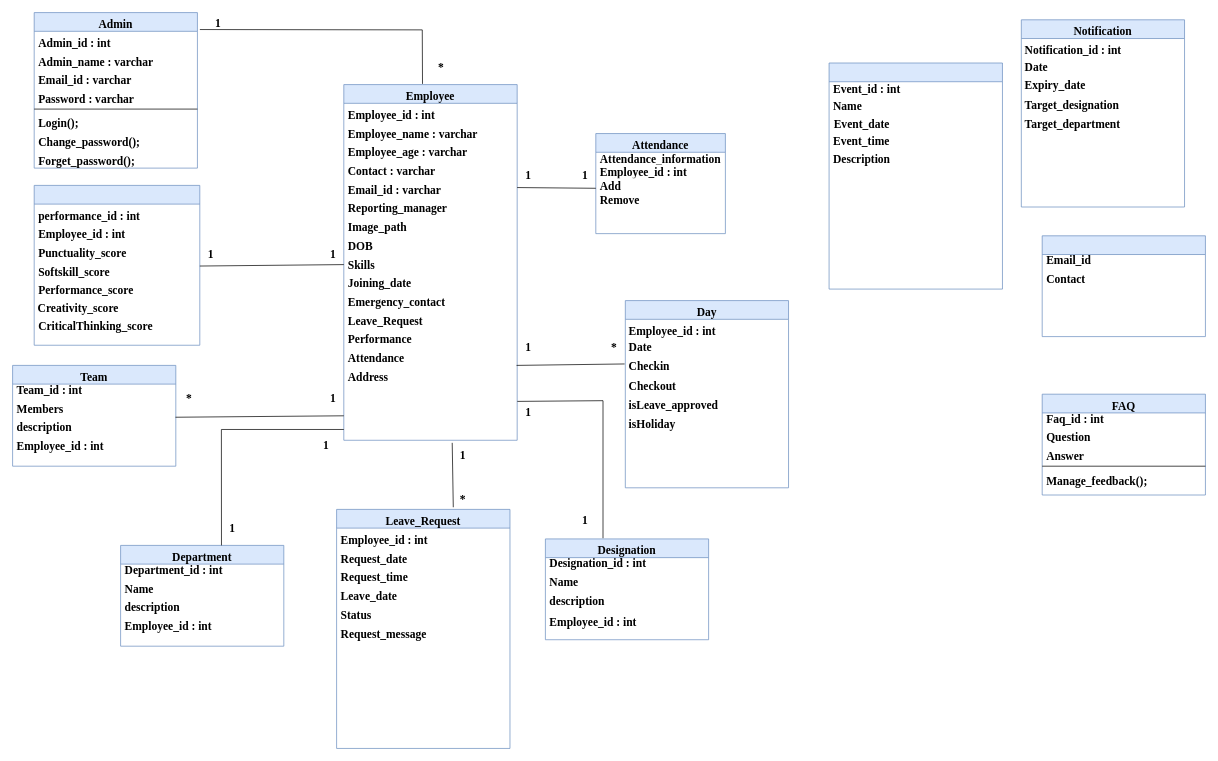
Image size: 1218x761. Some labels were removed from this diagram. The shapes that lost their labels are listed below. From the top down, each one's box as (x1, y1, x2, y2) in pixels, then its label:
(828, 62, 1002, 289): Upcoming_event
(33, 185, 200, 345): Employee_performance
(1041, 235, 1205, 337): Help
